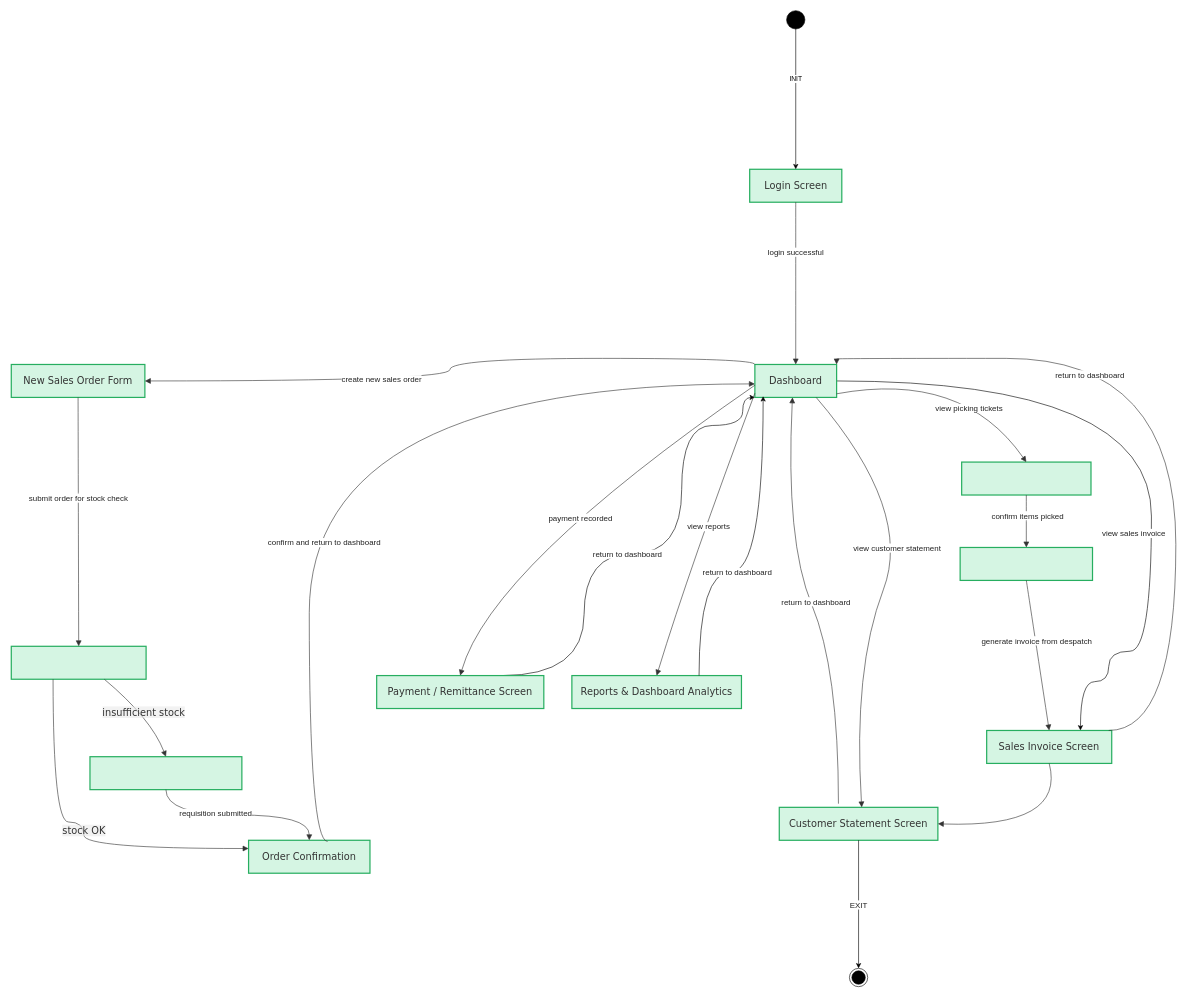
Image size: 1186x997. Some labels were removed from this diagram. The shapes that lost their labels are listed below. From the top down, each one's centre as x and y in pixels, then its label:
At (x=1026, y=478): "Picking Ticket Screen".
At (x=1026, y=564): "Despatch Note Screen".
At (x=78, y=662): "Stock Availability View".
At (x=165, y=773): "Purchase Requisition Form".
